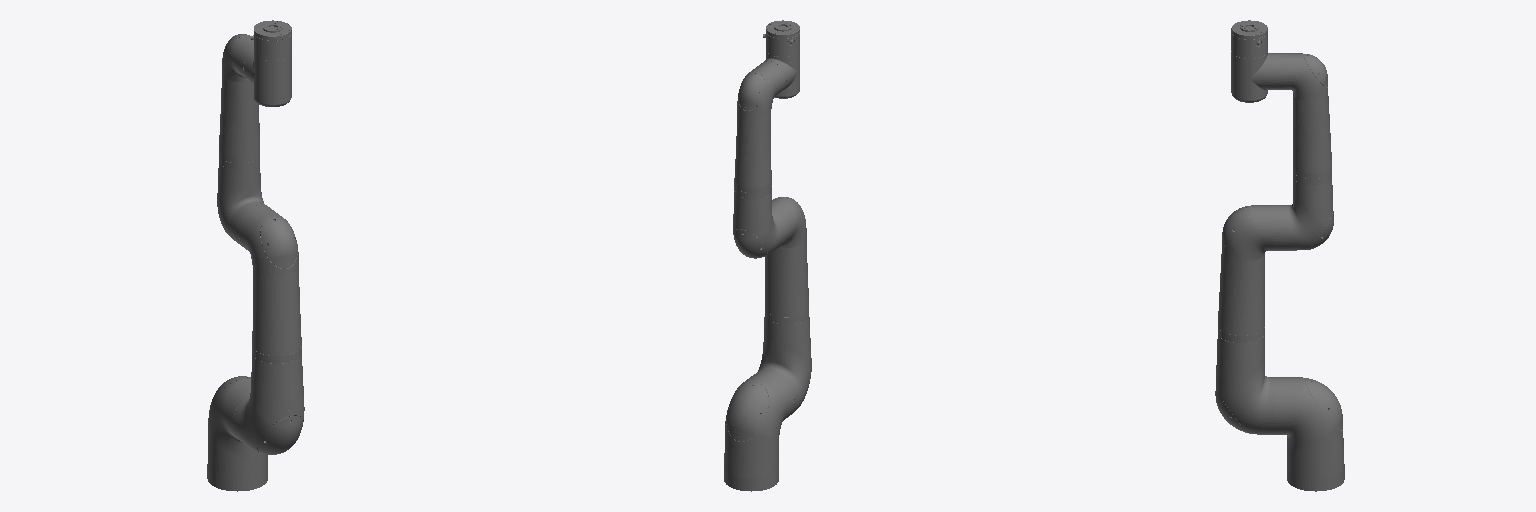
URDF robot description (indy12_v2):
<?xml version="1.0" ?>
<!-- =================================================================================== -->
<!-- |    This document was autogenerated by xacro from indyrp2.xacro                  | -->
<!-- |    EDITING THIS FILE BY HAND IS NOT RECOMMENDED                                 | -->
<!-- =================================================================================== -->
<robot name="indy12_v2">
  <material name="black">
    <color rgba="0.0 0.0 0.0 1.0"/>
  </material>
  <material name="blue">
    <color rgba="0.0 0.0 0.8 1.0"/>
  </material>
  <material name="green">
    <color rgba="0.0 0.8 0.0 1.0"/>
  </material>
  <material name="grey_">
    <color rgba="0.2 0.2 0.2 1.0"/>
  </material>
  <material name="orange">
    <color rgba="1.0 0.4235294117647059 0.0392156862745098 1.0"/>
  </material>
  <material name="brown">
    <color rgba="0.8705882352941177 0.8117647058823529 0.7647058823529411 1.0"/>
  </material>
  <material name="red">
    <color rgba="0.8 0.0 0.0 1.0"/>
  </material>
  <material name="white">
    <color rgba="1.0 1.0 1.0 1.0"/>
  </material>
  <material name="metal">
    <color rgba="0.768627450980392 0.749019607843137 0.729411764705882 1"/>
  </material>
  <material name="metal_grey">
    <color rgba="0.501960784313725 0.501960784313725 0.501960784313725 1"/>
  </material>
  <material name="metal_white">
    <color rgba="0.866666666666667 0.866666666666667 0.890196078431373 1"/>
  </material>

  <link name="link0">
    <visual>
      <origin rpy="0 0 0" xyz="0 0 0"/>
      <geometry>
        <mesh filename="meshes/stl/indy12_v2/link0.stl"/>
      </geometry>
      <material name="metal_grey"/>
    </visual>

    <inertial>
      <origin rpy="0 0 0" xyz="0.00263938 -0.00000218 0.03583192"/>
      <mass value="2.56262283"/>
      <inertia ixx="0.01217749" ixy="0.00001183" ixz="-0.00010915" iyy="0.01291700" iyz="-0.00000185" izz="0.02096803"/>
    </inertial>
  </link>
  <link name="link1">
    <visual>
      <origin rpy="0 0 0" xyz="0 0 0"/>
      <geometry>
        <mesh filename="meshes/stl/indy12_v2/link1.stl"/>
      </geometry>
      <material name="metal_grey"/>
    </visual>

    <inertial>
      <origin rpy="0 0 0" xyz="0.00008557 -0.04328154 0.18159328"/>
      <mass value="23.04941339"/>
      <inertia ixx="0.30202876" ixy="0.00007051" ixz="-0.00000638" iyy="0.25465324" iyz="-0.09152012" izz="0.10765691"/>
    </inertial>
  </link>
  <link name="link2">
    <visual>
      <origin rpy="0 0 0" xyz="0 0 0"/>
      <geometry>
        <mesh filename="meshes/stl/indy12_v2/link2.stl"/>
      </geometry>
      <material name="metal_grey"/>
    </visual>

    <inertial>
      <origin rpy="0 0 0" xyz="0 -0.09582491 0.08847946"/>
      <mass value="8.96934807"/>
      <inertia ixx="+0.10217692" ixy="-0.00000038" ixz="0.00000041" iyy="+0.09870504" iyz="-0.01342194" izz="+0.03775572"/>
    </inertial>
  </link>
  <link name="link3">
    <visual>
      <origin rpy="0 0 0" xyz="0 0 0"/>
      <geometry>
        <mesh filename="meshes/stl/indy12_v2/link3.stl"/>
      </geometry>
      <material name="metal_grey"/>
    </visual>

    <inertial>
      <origin rpy="0 0 0" xyz="0.00000177 0.01814888 0.21567452"/>
      <mass value="8.45645221"/>
      <inertia ixx="+0.14750527" ixy="+0.00000067" ixz="+0.00000173" iyy="+0.14140192" iyz="+0.01943665" izz="+0.03100903"/>
    </inertial>
  </link>
  <link name="link4">
    <visual>
      <origin rpy="0 0 0" xyz="0 0 0"/>
      <geometry>
        <mesh filename="meshes/stl/indy12_v2/link4.stl"/>
      </geometry>
      <material name="metal_grey"/>
    </visual>

    <inertial>
      <origin rpy="0 0 0" xyz="-0.00000483 0.08958341 0.06692026"/>
      <mass value="5.10779343 "/>
      <inertia ixx="+0.03950342" ixy="0.00000061" ixz="+0.00000051" iyy="+0.03644218" iyz="0.00639327" izz="0.01615892"/>
    </inertial>
  </link>
  <link name="link5">
    <visual>
      <origin rpy="0 0 0" xyz="0 0 0"/>
      <geometry>
        <mesh filename="meshes/stl/indy12_v2/link5.stl"/>
      </geometry>
      <material name="metal_grey"/>
    </visual>

    <inertial>
      <origin rpy="0 0 0" xyz="0.00015551 -0.04669128 0.22088570"/>
      <mass value="5.05476208"/>
      <inertia ixx="0.10945505" ixy="-0.00008325" ixz="0.00008149" iyy="0.10032484" iyz="-0.02374104" izz="0.01927371"/>
    </inertial>
  </link>
  <link name="link6">
    <visual>
      <origin rpy="0 0 0" xyz="0 0 0"/>
      <geometry>
        <mesh filename="meshes/stl/indy12_v2/link6.stl"/>
      </geometry>
      <material name="metal_grey"/>
    </visual>

    <inertial>
      <origin rpy="0 0 0" xyz="-0.00014038 -0.00014038 0.02034922"/>
      <mass value="3.54178915"/>
      <inertia ixx="0.00947309" ixy="0.00000368" ixz="-0.00000055" iyy="0.00901900" iyz="-0.00038601" izz="0.00603120"/>
    </inertial>
  </link>
  <link name="link7">
    <visual>
      <origin rpy="0 0 0" xyz="0 0 0"/>
      <geometry>
        <mesh filename="meshes/stl/indy12_v2/link7.stl"/>
      </geometry>
      <material name="metal_grey"/>
    </visual>

    <inertial>
      <origin rpy="0 0 0" xyz="0.0003115 -0.0005641 0.0364598"/>
      <mass value="1.00684783"/>
      <inertia ixx="+0.00174119" ixy="0.00000018" ixz="+0.00000083" iyy="+0.00173263" iyz="-0.00000199" izz="+0.00223183"/>
    </inertial>
  </link>
  <link name="tcp">
    <inertial>
      <mass value="0.000001" />
      <origin xyz="0.0 0.0 0.0" rpy="0 0 0" />
      <inertia ixx="0.000001" ixy="0" ixz="0" iyy="0.000001" iyz="0" izz="0.000001" />
    </inertial>
  </link>

  <joint name="joint0" type="revolute">
    <parent link="link0"/>
    <child link="link1"/>
    <origin rpy="0 0 0" xyz="+0.00000000 +0.00000000 +0.0820000"/>
    <axis xyz="0 0 1"/>
    <limit effort="10" lower="-3.0543261909900763" upper="3.0543261909900763" velocity="1"/>
  </joint>
  <joint name="joint1" type="revolute">
    <parent link="link1"/>
    <child link="link2"/>
    <origin rpy="0.0 0.0 0" xyz="+0.00000000 -0.13600000 0.26800000"/>
    <axis xyz="0 1 0"/>
    <limit effort="10" lower="-3.0543261909900763" upper="3.0543261909900763" velocity="1"/>
  </joint>
  <joint name="joint2" type="revolute">
    <parent link="link2"/>
    <child link="link3"/>
    <origin rpy="0 0 0" xyz="0 -0.11100000 0.29300000"/>
    <axis xyz="0 0 1"/>
    <limit effort="10" lower="-3.0543261909900763" upper="3.0543261909900763" velocity="1"/>
  </joint>
  <joint name="joint3" type="revolute">
    <parent link="link3"/>
    <child link="link4"/>
    <origin rpy="0 0 0" xyz="0.0 0.12950000 0.35750000"/>
    <axis xyz="0 1 0"/>
    <limit effort="10" lower="-3.0543261909900763" upper="3.0543261909900763" velocity="1"/>
  </joint>
  <joint name="joint4" type="revolute">
    <parent link="link4"/>
    <child link="link5"/>
    <origin rpy="0 0 0" xyz="0 0.10650000 0.20900000"/>
    <axis xyz="0 0 1"/>
    <limit effort="10" lower="-3.0543261909900763" upper="3.0543261909900763" velocity="1"/>
  </joint>
  <joint name="joint5" type="revolute">
    <parent link="link5"/>
    <child link="link6"/>
    <origin rpy="0 0 0" xyz="0 -0.12900000 0.36250000"/>
    <axis xyz="0 1 0"/>
    <limit effort="10" lower="-3.0543261909900763" upper="3.0543261909900763" velocity="1"/>
  </joint>
  <joint name="joint6" type="revolute">
    <parent link="link6"/>
    <child link="link7"/>
    <origin rpy="0 0 0" xyz="0 -0.07950000 +0.07455"/>
    <axis xyz="0 0 1"/>
    <limit effort="10" lower="-3.0543261909900763" upper="3.0543261909900763" velocity="1"/>
  </joint>
  <joint name="tcp_fixed" type="fixed">
    <parent link="link7"/>
    <child link="tcp"/>
    <origin rpy="0 0 0" xyz="0 0 0.0841"/>
  </joint>
</robot>

--- What the picture shows (computed from the rendered views, not written in the file) ---
The picture shows the robot from 3 angles, left to right: view 1: azimuth 30°, elevation 25°; view 2: azimuth 150°, elevation 25°; view 3: azimuth 270°, elevation 25°; orthographic projection.
Robot: indy12_v2 — 9 links, 8 joints (7 revolute, 1 fixed); root link link0; default pose: all joints at 0.
Visible links, largest first — view 1: link3, link2, link1, link5, link4, link6, link7; view 2: link1, link5, link3, link2, link4, link7, link6; view 3: link1, link3, link2, link5, link4, link6, link7.
Boxes of the visible links, left/top/right/bottom form: link3: left=236, top=205, right=301, bottom=355; link2: left=233, top=347, right=304, bottom=454; link1: left=207, top=376, right=267, bottom=491; link5: left=219, top=34, right=259, bottom=162; link4: left=217, top=157, right=266, bottom=243; link6: left=244, top=51, right=291, bottom=106; link7: left=251, top=20, right=291, bottom=60; link1: left=724, top=371, right=794, bottom=491; link5: left=734, top=61, right=785, bottom=192; link3: left=765, top=197, right=808, bottom=316; link2: left=758, top=311, right=811, bottom=414; link4: left=733, top=186, right=786, bottom=258; link7: left=763, top=20, right=799, bottom=56; link6: left=764, top=52, right=799, bottom=98; link1: left=1275, top=377, right=1344, bottom=491; link3: left=1218, top=205, right=1280, bottom=335; link2: left=1215, top=327, right=1274, bottom=434; link5: left=1274, top=53, right=1331, bottom=178; link4: left=1280, top=173, right=1333, bottom=250; link6: left=1231, top=51, right=1273, bottom=102; link7: left=1231, top=20, right=1267, bottom=58.
Bounding box of the posed robot: 0.19 × 0.4276 × 1.65 m (x, y, z).
7 mesh visuals loaded from 8 distinct referenced files (7 binary STL); not drawn: 1 (reference not matched to a file when rendering).
